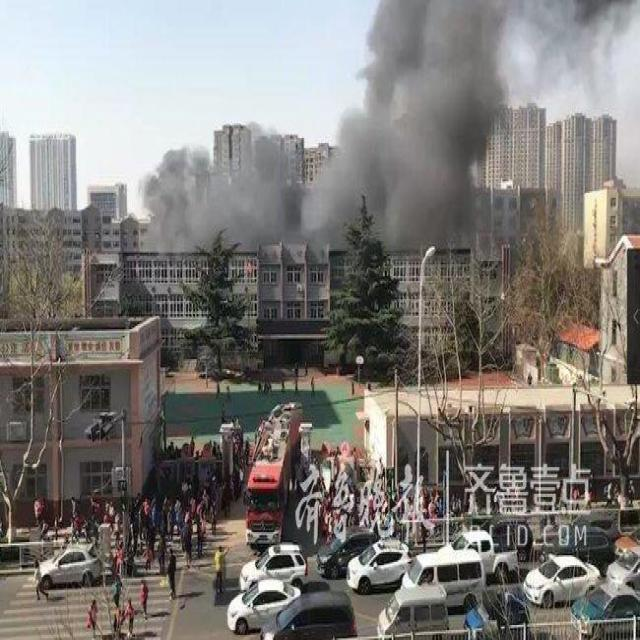smoke: (306, 0, 632, 253), (134, 120, 308, 254)
